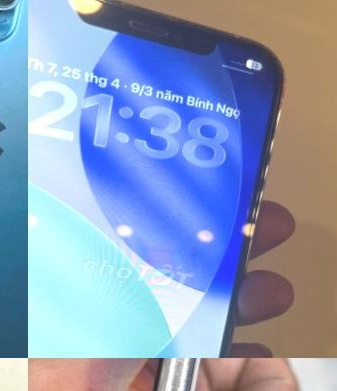scratch: (13, 38, 305, 391), (73, 0, 289, 67)
